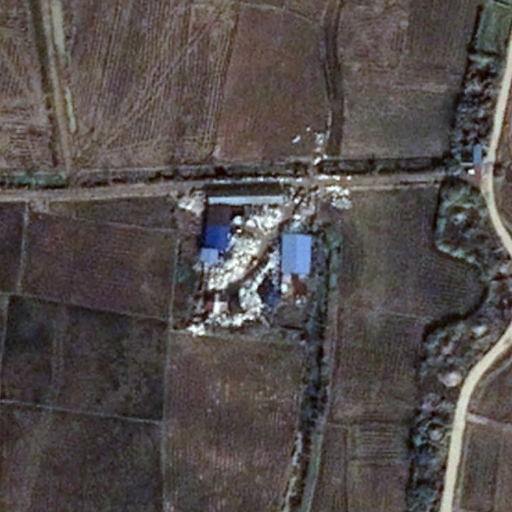msw: (191, 206, 311, 332)
